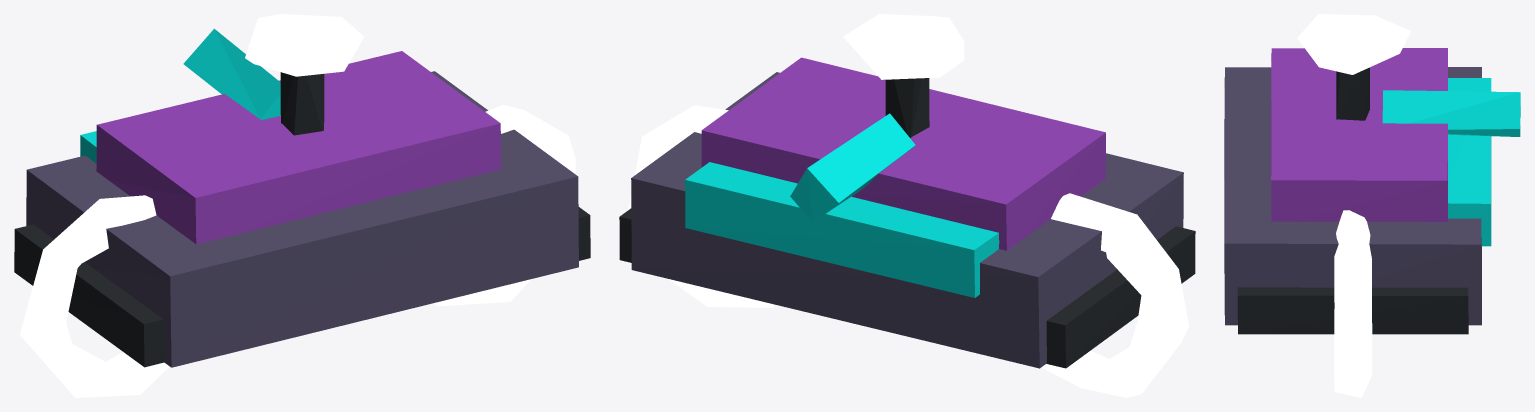
Rendered from SM_Chronolegion_CH_ParallaxScout_LOD3.fbx.
3 renders of one model, left to right at view 1: azimuth 30°, elevation 25°; view 2: azimuth 150°, elevation 25°; view 3: azimuth 270°, elevation 25°, orthographic. The views are drawn at different scales.
Visible parts, largest first — view 1: LOD03_SM_Chronolegion_CH_ParallaxScout; view 2: LOD03_SM_Chronolegion_CH_ParallaxScout; view 3: LOD03_SM_Chronolegion_CH_ParallaxScout.
Boxes of the visible parts, x1,y1,x2,y2 form: LOD03_SM_Chronolegion_CH_ParallaxScout: (14, 14, 590, 397); LOD03_SM_Chronolegion_CH_ParallaxScout: (619, 14, 1195, 397); LOD03_SM_Chronolegion_CH_ParallaxScout: (1224, 14, 1520, 397).
Bounding box in the file's own units: 381 × 198 × 216.
